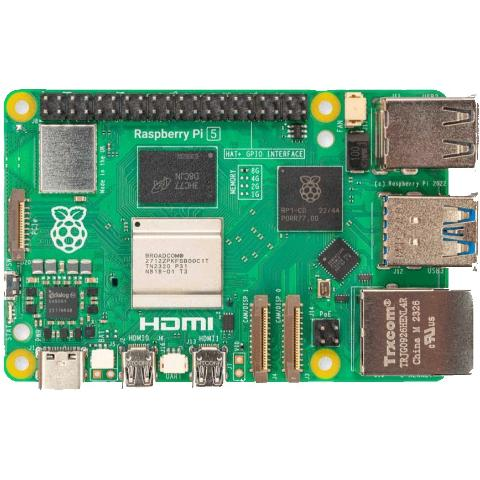Raspberry Pi 5: (0, 89, 480, 393)
